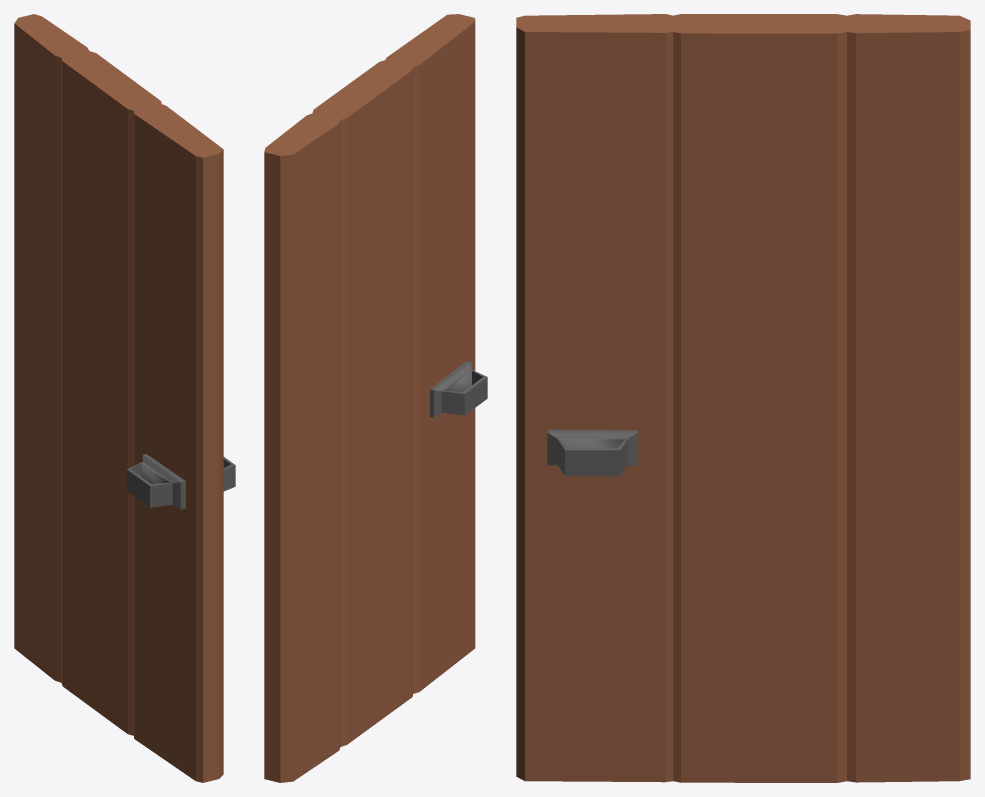
File: Door.fbx
The picture shows the model from 3 angles, left to right: view 1: azimuth 30°, elevation 25°; view 2: azimuth 150°, elevation 25°; view 3: azimuth 270°, elevation 25°; orthographic projection. The views are drawn at different scales.
Visible parts, largest first — view 1: woodWallwithDoor.001; view 2: woodWallwithDoor.001; view 3: woodWallwithDoor.001.
Boxes of the visible parts, x1,y1,x2,y2 form: woodWallwithDoor.001: (14, 14, 235, 782); woodWallwithDoor.001: (264, 14, 487, 782); woodWallwithDoor.001: (516, 14, 970, 782).
Size of the model in its own units: 1.7 by 11.84 by 6.51.
